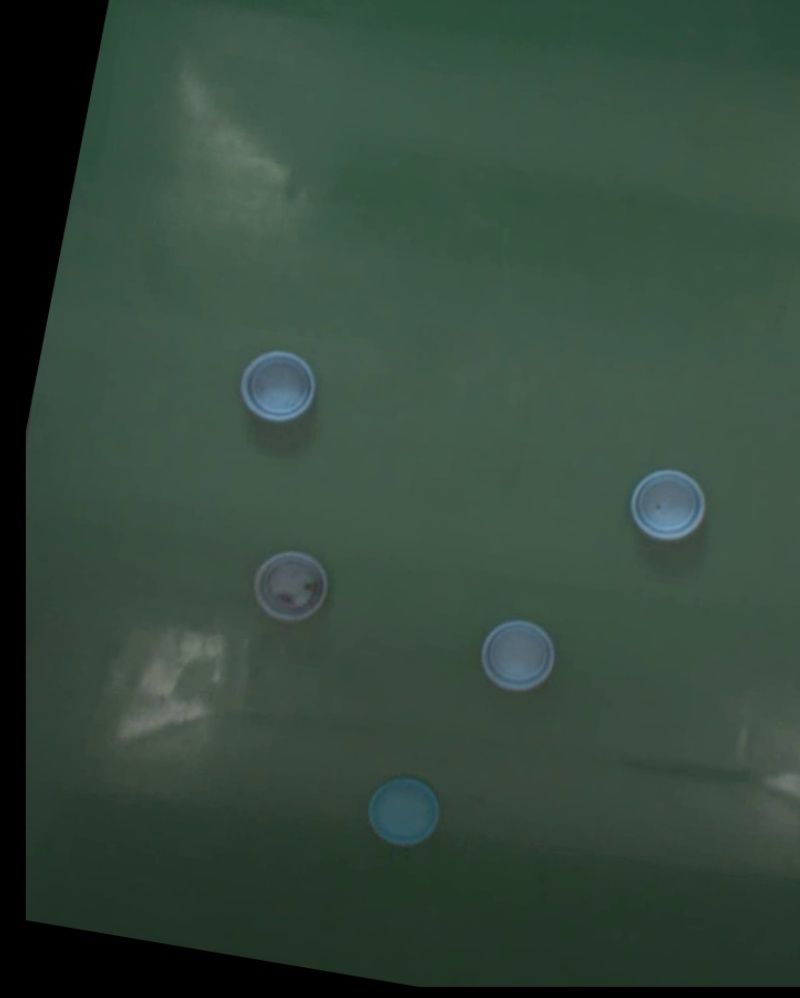Light Blue: (623, 464, 711, 547), (475, 614, 561, 697), (235, 345, 321, 428), (248, 546, 334, 629), (359, 771, 444, 851)
